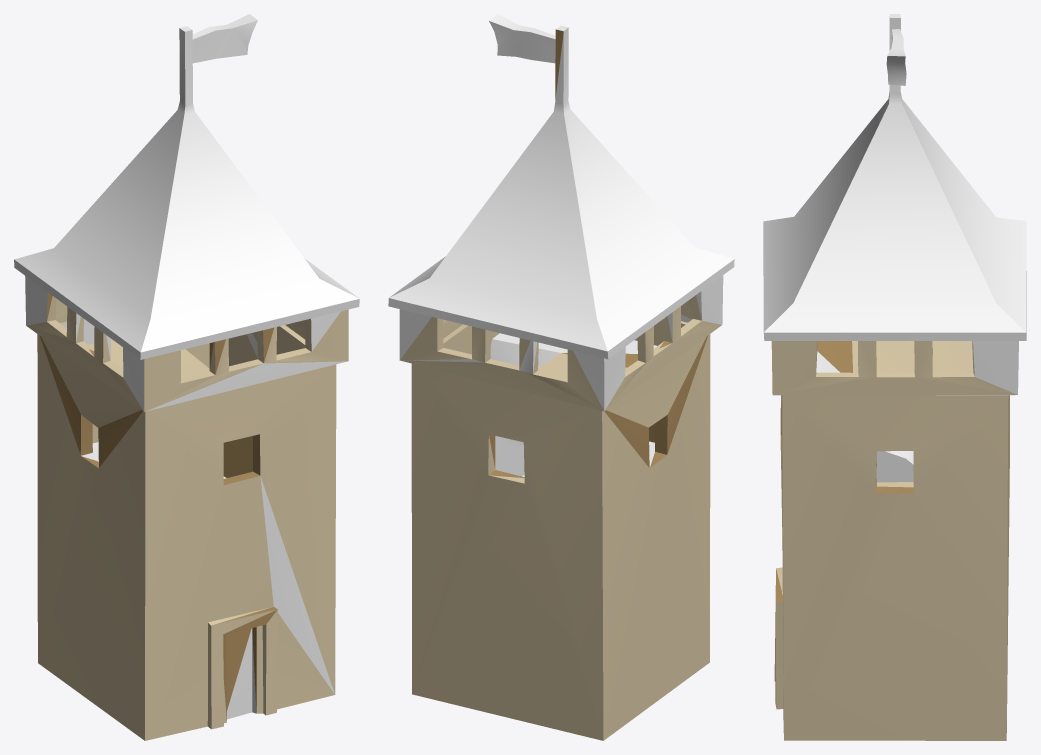
3 views of the same model, side by side, from view 1: azimuth 30°, elevation 25°; view 2: azimuth 150°, elevation 25°; view 3: azimuth 270°, elevation 25° (orthographic). The views are drawn at different scales.
Parts seen in each view (by area): view 1: base; view 2: base; view 3: base.
Boxes of the visible parts, <box> form: base: <box>14,14,359,740</box>; base: <box>388,14,734,740</box>; base: <box>763,14,1026,740</box>.
Bounding box in the file's own units: 1.9 × 5.38 × 1.9.
